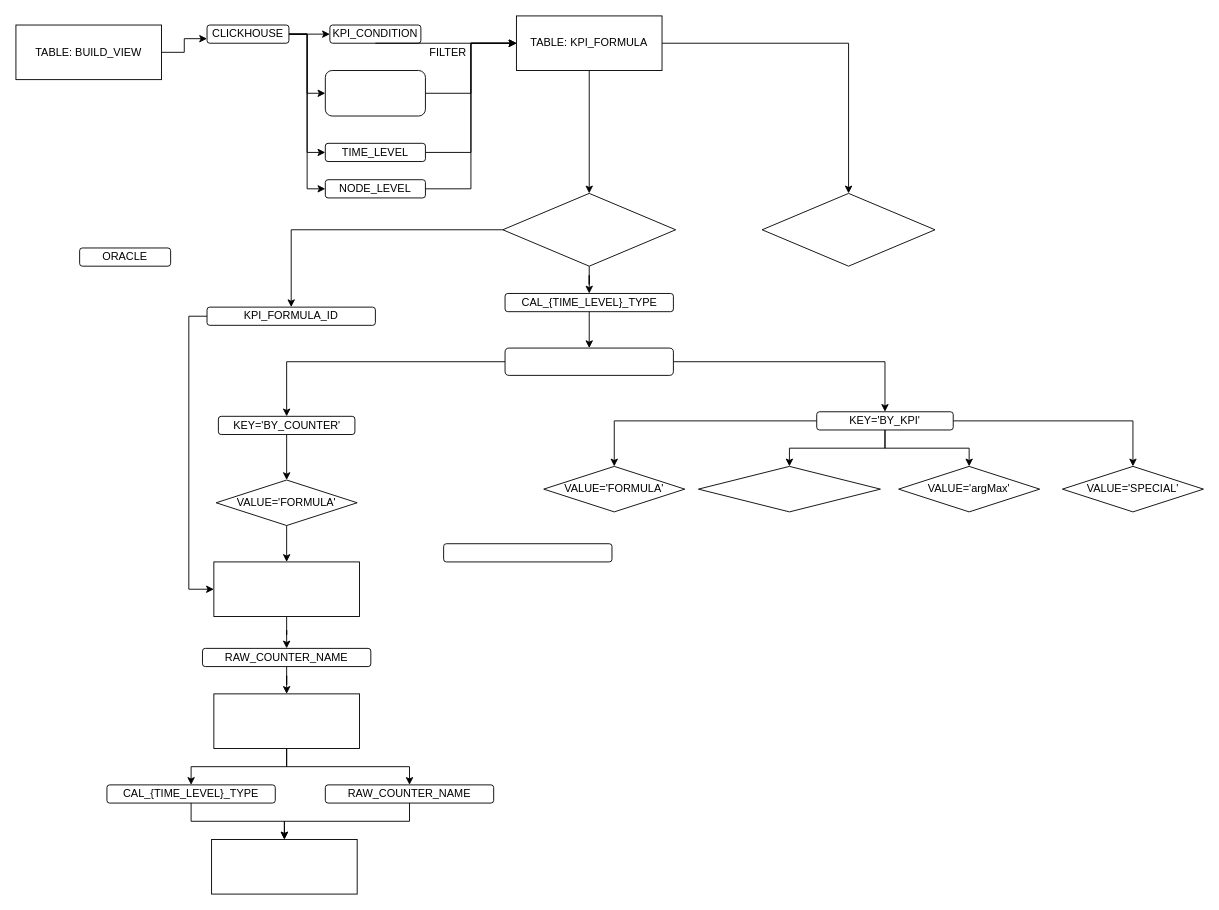
The diagram is 1219 pixels wide and 910 high, and some of its shapes have lost their labels. The box of each missing label's shape, as (x1, y1, x2, y2) in pixels:
CAL_{TIME_LEVEL}_TYPE [ {NODE_LEVEL}}: (504, 347, 673, 375)
COUNTER_FUNCTIONS Ex: AVG(M16C000): (211, 839, 357, 894)
INCREASE_LEVEL = NODE_LEVEL: (761, 192, 935, 266)
INCREASE_LEVEL in (RAW,TIME_LEVEL): (502, 192, 676, 266)
INCREASE_LEVEL: RAW, TIME_LEVEL, NODE_LEVEL: (324, 70, 425, 116)
LIST_KPI_FORMULA_ID_BY_KPI: (443, 543, 612, 562)
TABLE: KPI_COUNTER: (213, 561, 359, 617)
TABLE: RAW_COUNTER_HEADER: (213, 693, 359, 748)
VALUE in (MAX,SUM,AVG)': (698, 465, 880, 512)
